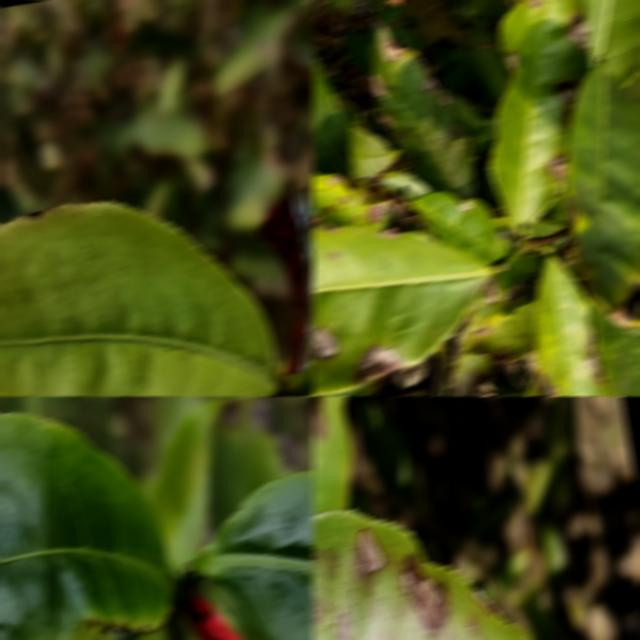Leaf: (0, 201, 279, 396), (0, 413, 173, 640), (312, 226, 493, 394), (312, 509, 541, 640), (489, 0, 591, 227), (192, 472, 314, 640), (564, 64, 640, 327), (371, 17, 475, 199), (149, 396, 233, 567), (207, 398, 290, 531), (534, 254, 611, 396), (412, 192, 512, 264), (222, 147, 287, 232), (359, 401, 414, 493), (312, 396, 353, 514), (312, 174, 397, 230), (449, 301, 497, 396), (591, 304, 640, 396), (464, 300, 537, 361), (476, 251, 542, 313), (465, 22, 510, 107), (347, 126, 400, 179), (341, 23, 377, 75), (455, 0, 512, 25), (328, 0, 374, 30), (473, 114, 499, 153)
